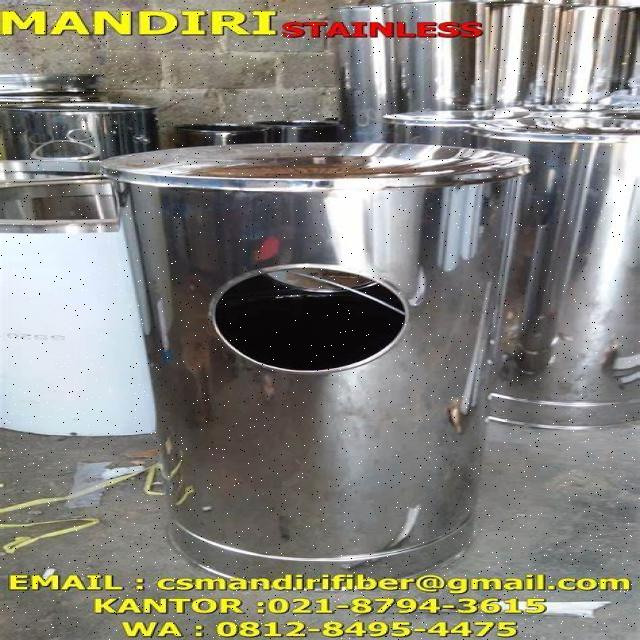garbage container: (89, 128, 499, 572)
